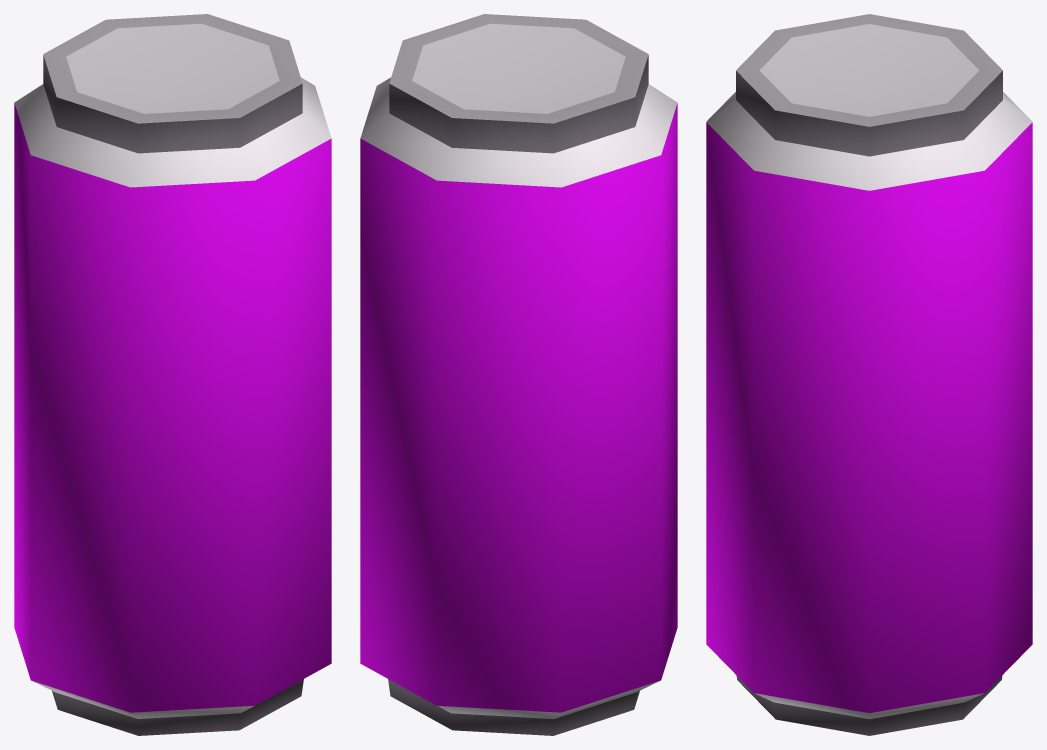
File: Can1.fbx
3 renders of one model, left to right at view 1: azimuth 30°, elevation 25°; view 2: azimuth 150°, elevation 25°; view 3: azimuth 270°, elevation 25°, orthographic.
Parts seen in each view (by area): view 1: Can1; view 2: Can1; view 3: Can1.
Boxes of the visible parts, bbox=[...] form: Can1: bbox=[14, 14, 331, 735]; Can1: bbox=[360, 14, 677, 735]; Can1: bbox=[706, 14, 1032, 735].
Bounding box in the file's own units: 7.48 × 15.41 × 7.48.
